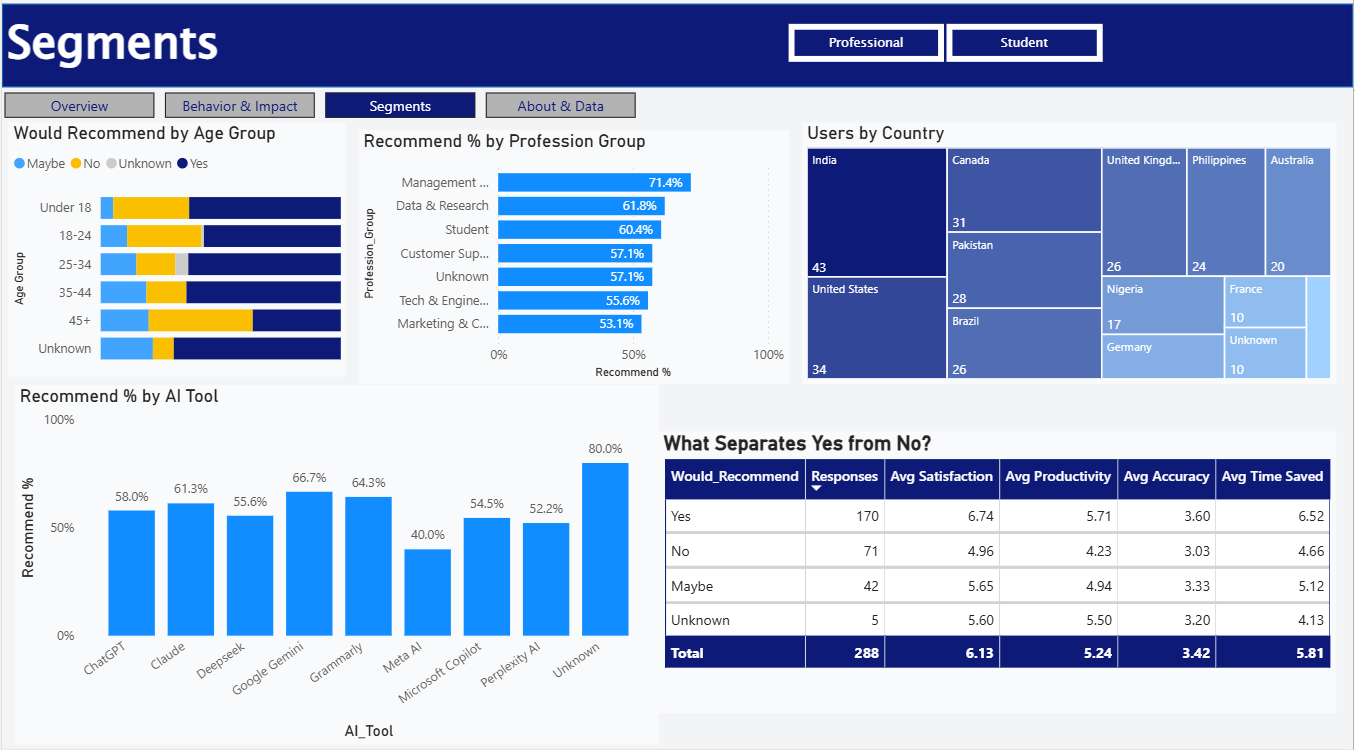

Layout of this report page (visuals, bound fields, positions):
{"tool":"powerbi","page":{"name":"Segments","canvas":[1280,720],"ordinal":2},"visuals":[{"type":"shape","box":[0,13.2,1280,79.1],"z":0},{"type":"textbox","box":[0,13.2,503.4,79.1],"z":1000},{"type":"slicer","title":"User Type","fields":{"Values":["AI_Usage.User_Type"]},"box":[718.5,24.5,347.7,50.5],"z":2000},{"type":"hundredPercentStackedBarChart","title":"Would Recommend by Age Group","fields":{"Category":["AI_Usage.Age_Group"],"Y":["_Measures.Responses"],"Series":["AI_Usage.Would_Recommend"]},"box":[5.8,126,320.3,240.9],"z":3000},{"type":"treemap","title":"Users by Country","fields":{"Group":["AI_Usage.Country"],"Values":["_Measures.Total Users"]},"box":[757.4,125.5,506.4,248.2],"z":4000},{"type":"barChart","title":"Recommend % by Profession Group","fields":{"Category":["AI_Usage.Profession_Group"],"Y":["_Measures.Recommend %"]},"box":[337.6,132.7,408.3,240.9],"z":5000},{"type":"columnChart","title":"Recommend % by AI Tool","fields":{"Category":["AI_Usage.AI_Tool"],"Y":["_Measures.Recommend %"]},"box":[11.5,373.7,610.3,340.5],"z":6000},{"type":"tableEx","title":"What Separates Yes from No?","fields":{"Values":["AI_Usage.Would_Recommend","_Measures.Responses","_Measures.Avg Satisfaction","_Measures.Avg Productivity","_Measures.Avg Accuracy","_Measures.Avg Time Saved"]},"box":[621.8,418.4,642,266.9],"z":7000},{"type":"pageNavigator","box":[2.9,96.7,600.2,24.5],"z":8000}]}

Visuals, with their boxes in screenshot pixels (x1, y1, x2, y2), scaled from the page's 1280x720 canvas onto the 1355x750 screenshot:
shape: 0/14/1354/96
textbox: 0/14/533/96
"User Type" slicer: 761/26/1129/78
"Would Recommend by Age Group" hundredPercentStackedBarChart: 6/131/345/382
"Users by Country" treemap: 802/131/1338/389
"Recommend % by Profession Group" barChart: 357/138/790/389
"Recommend % by AI Tool" columnChart: 12/389/658/744
"What Separates Yes from No?" tableEx: 658/436/1338/714
pageNavigator: 3/101/638/126
